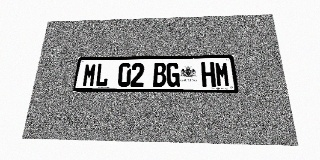0: (117, 63, 131, 87)
2: (130, 63, 144, 87)
B: (153, 62, 166, 87)
G: (166, 62, 180, 87)
H: (201, 62, 216, 87)
L: (95, 63, 109, 87)
M: (214, 62, 230, 87), (82, 63, 97, 87)
